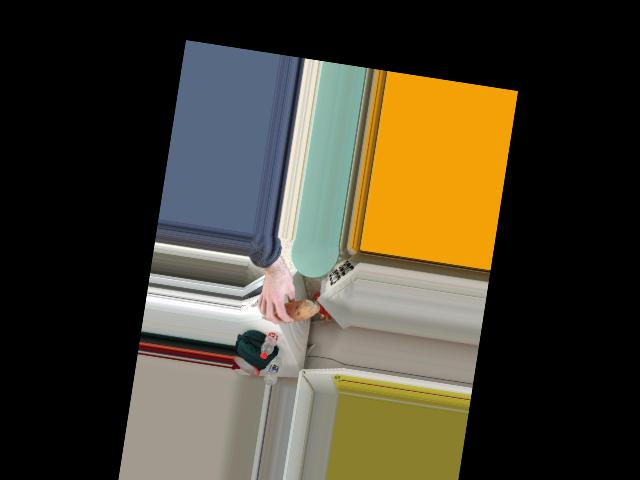sweet_potato: (258, 294, 318, 328)
